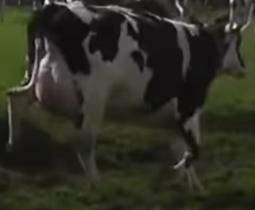cow: (5, 0, 255, 197)
